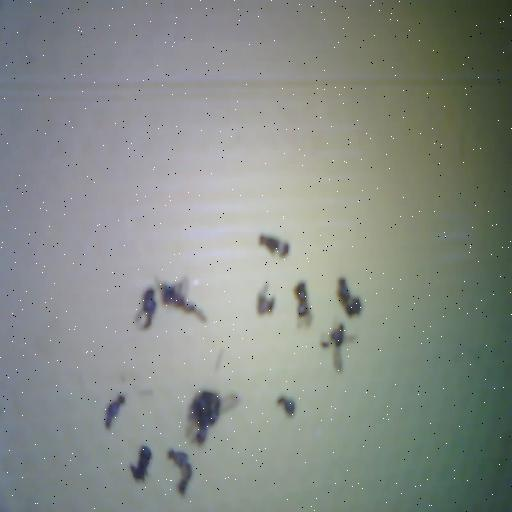Insects: (157, 278, 206, 321), (321, 323, 356, 372), (168, 449, 192, 495), (338, 278, 361, 316), (136, 287, 156, 329), (294, 282, 312, 328), (130, 445, 151, 481), (105, 395, 125, 429), (260, 234, 289, 257)
Insects 2: (187, 389, 239, 445)
dust: (256, 283, 275, 315), (277, 396, 295, 416)
